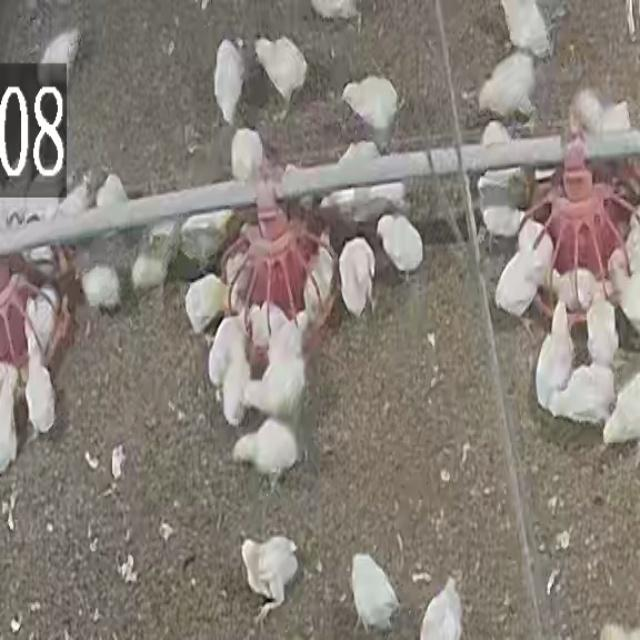chicken: (322, 140, 400, 225), (208, 316, 257, 430), (242, 537, 301, 622), (258, 320, 309, 415), (476, 51, 538, 122), (252, 34, 308, 112), (232, 418, 300, 482), (535, 300, 574, 409), (552, 364, 616, 428), (131, 206, 176, 296), (493, 244, 544, 319), (23, 322, 57, 434), (353, 552, 400, 631), (340, 74, 399, 136), (178, 208, 233, 274), (37, 30, 80, 111), (544, 262, 618, 309), (92, 173, 132, 258), (54, 176, 93, 261), (482, 124, 528, 194), (602, 366, 640, 448), (337, 238, 375, 319), (376, 212, 423, 276), (499, 1, 552, 56), (182, 273, 227, 337), (514, 217, 554, 289), (574, 91, 632, 140), (214, 37, 246, 125), (418, 581, 463, 640), (585, 296, 618, 369), (300, 255, 332, 328), (249, 299, 292, 353), (613, 253, 640, 338), (24, 287, 58, 353), (230, 127, 265, 186), (81, 264, 122, 312), (480, 203, 522, 241)
